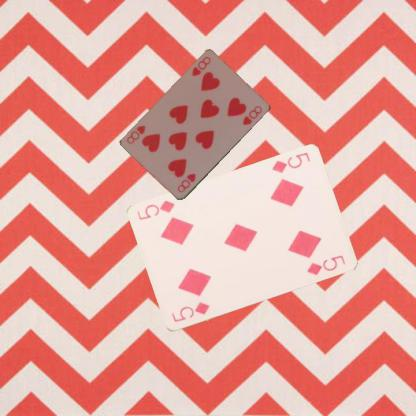5d: (268, 150, 312, 175), (169, 299, 211, 324)
8h: (175, 171, 197, 195), (190, 54, 212, 78)
